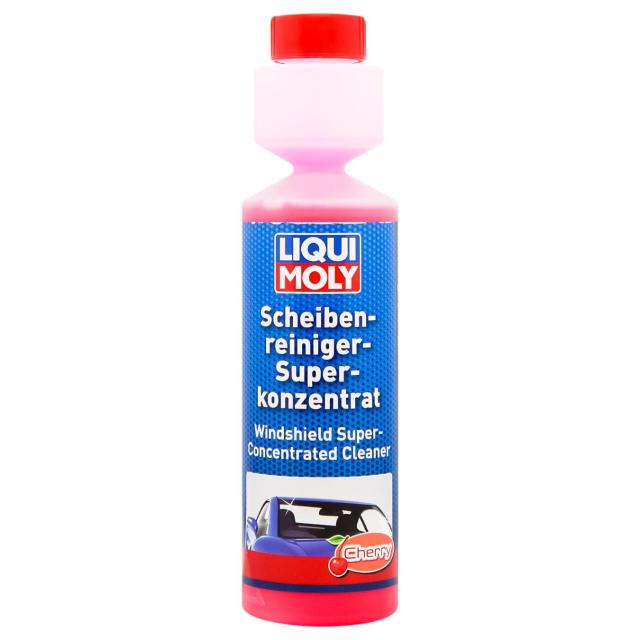winwinshield_washer: (236, 12, 402, 630)
